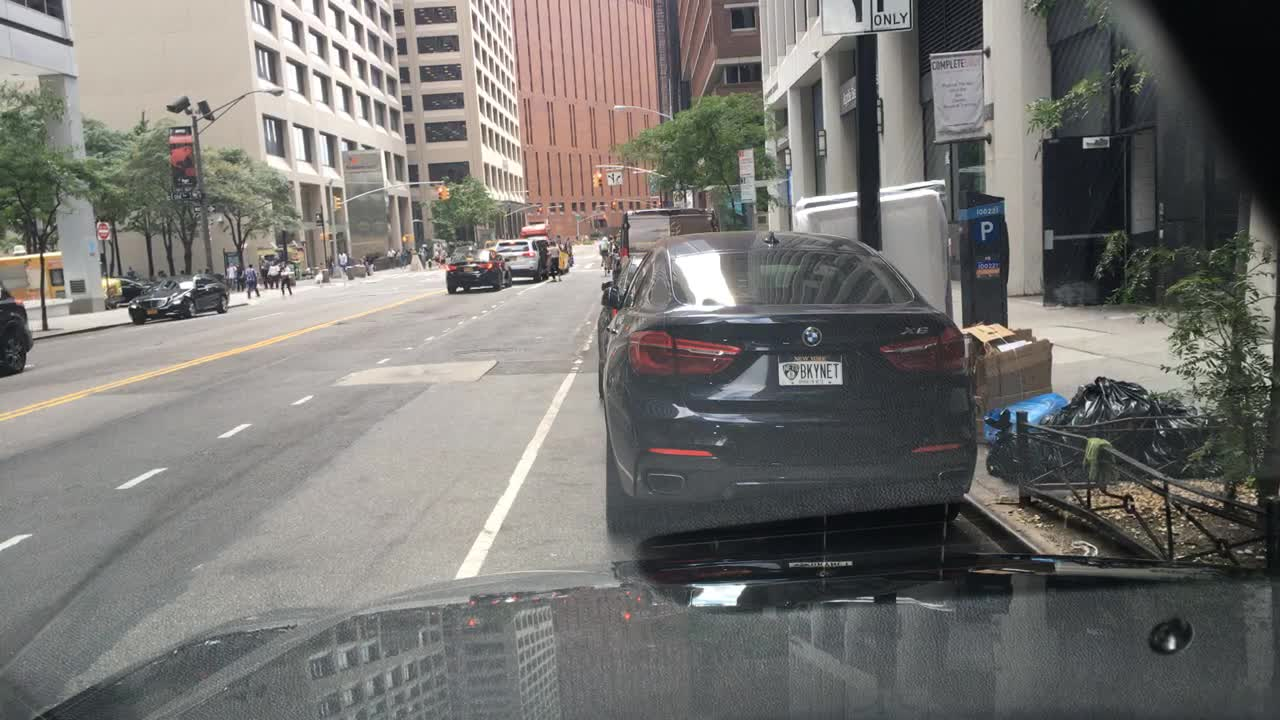bike: (600, 261, 612, 279)
car: (601, 223, 979, 553), (612, 205, 719, 299), (127, 272, 231, 323), (0, 278, 34, 377), (443, 245, 514, 292), (495, 237, 541, 277), (526, 236, 569, 277), (100, 277, 155, 306)
person: (546, 239, 564, 280), (244, 262, 262, 297), (277, 259, 293, 295), (232, 262, 244, 290), (226, 259, 236, 292), (257, 257, 267, 287), (267, 261, 277, 289), (338, 247, 348, 274), (399, 247, 410, 271), (415, 243, 425, 266), (385, 244, 395, 266), (125, 266, 136, 280), (175, 266, 188, 277)
rider: (595, 233, 610, 266)
traffic light: (330, 194, 343, 209), (595, 169, 604, 189), (589, 171, 597, 193), (317, 231, 332, 241), (434, 184, 442, 199), (442, 184, 450, 198), (535, 207, 545, 215)
traffic sign: (820, 0, 914, 35), (737, 147, 755, 205), (95, 219, 113, 240), (607, 169, 623, 186), (193, 203, 217, 212)
truck: (0, 250, 123, 310)
